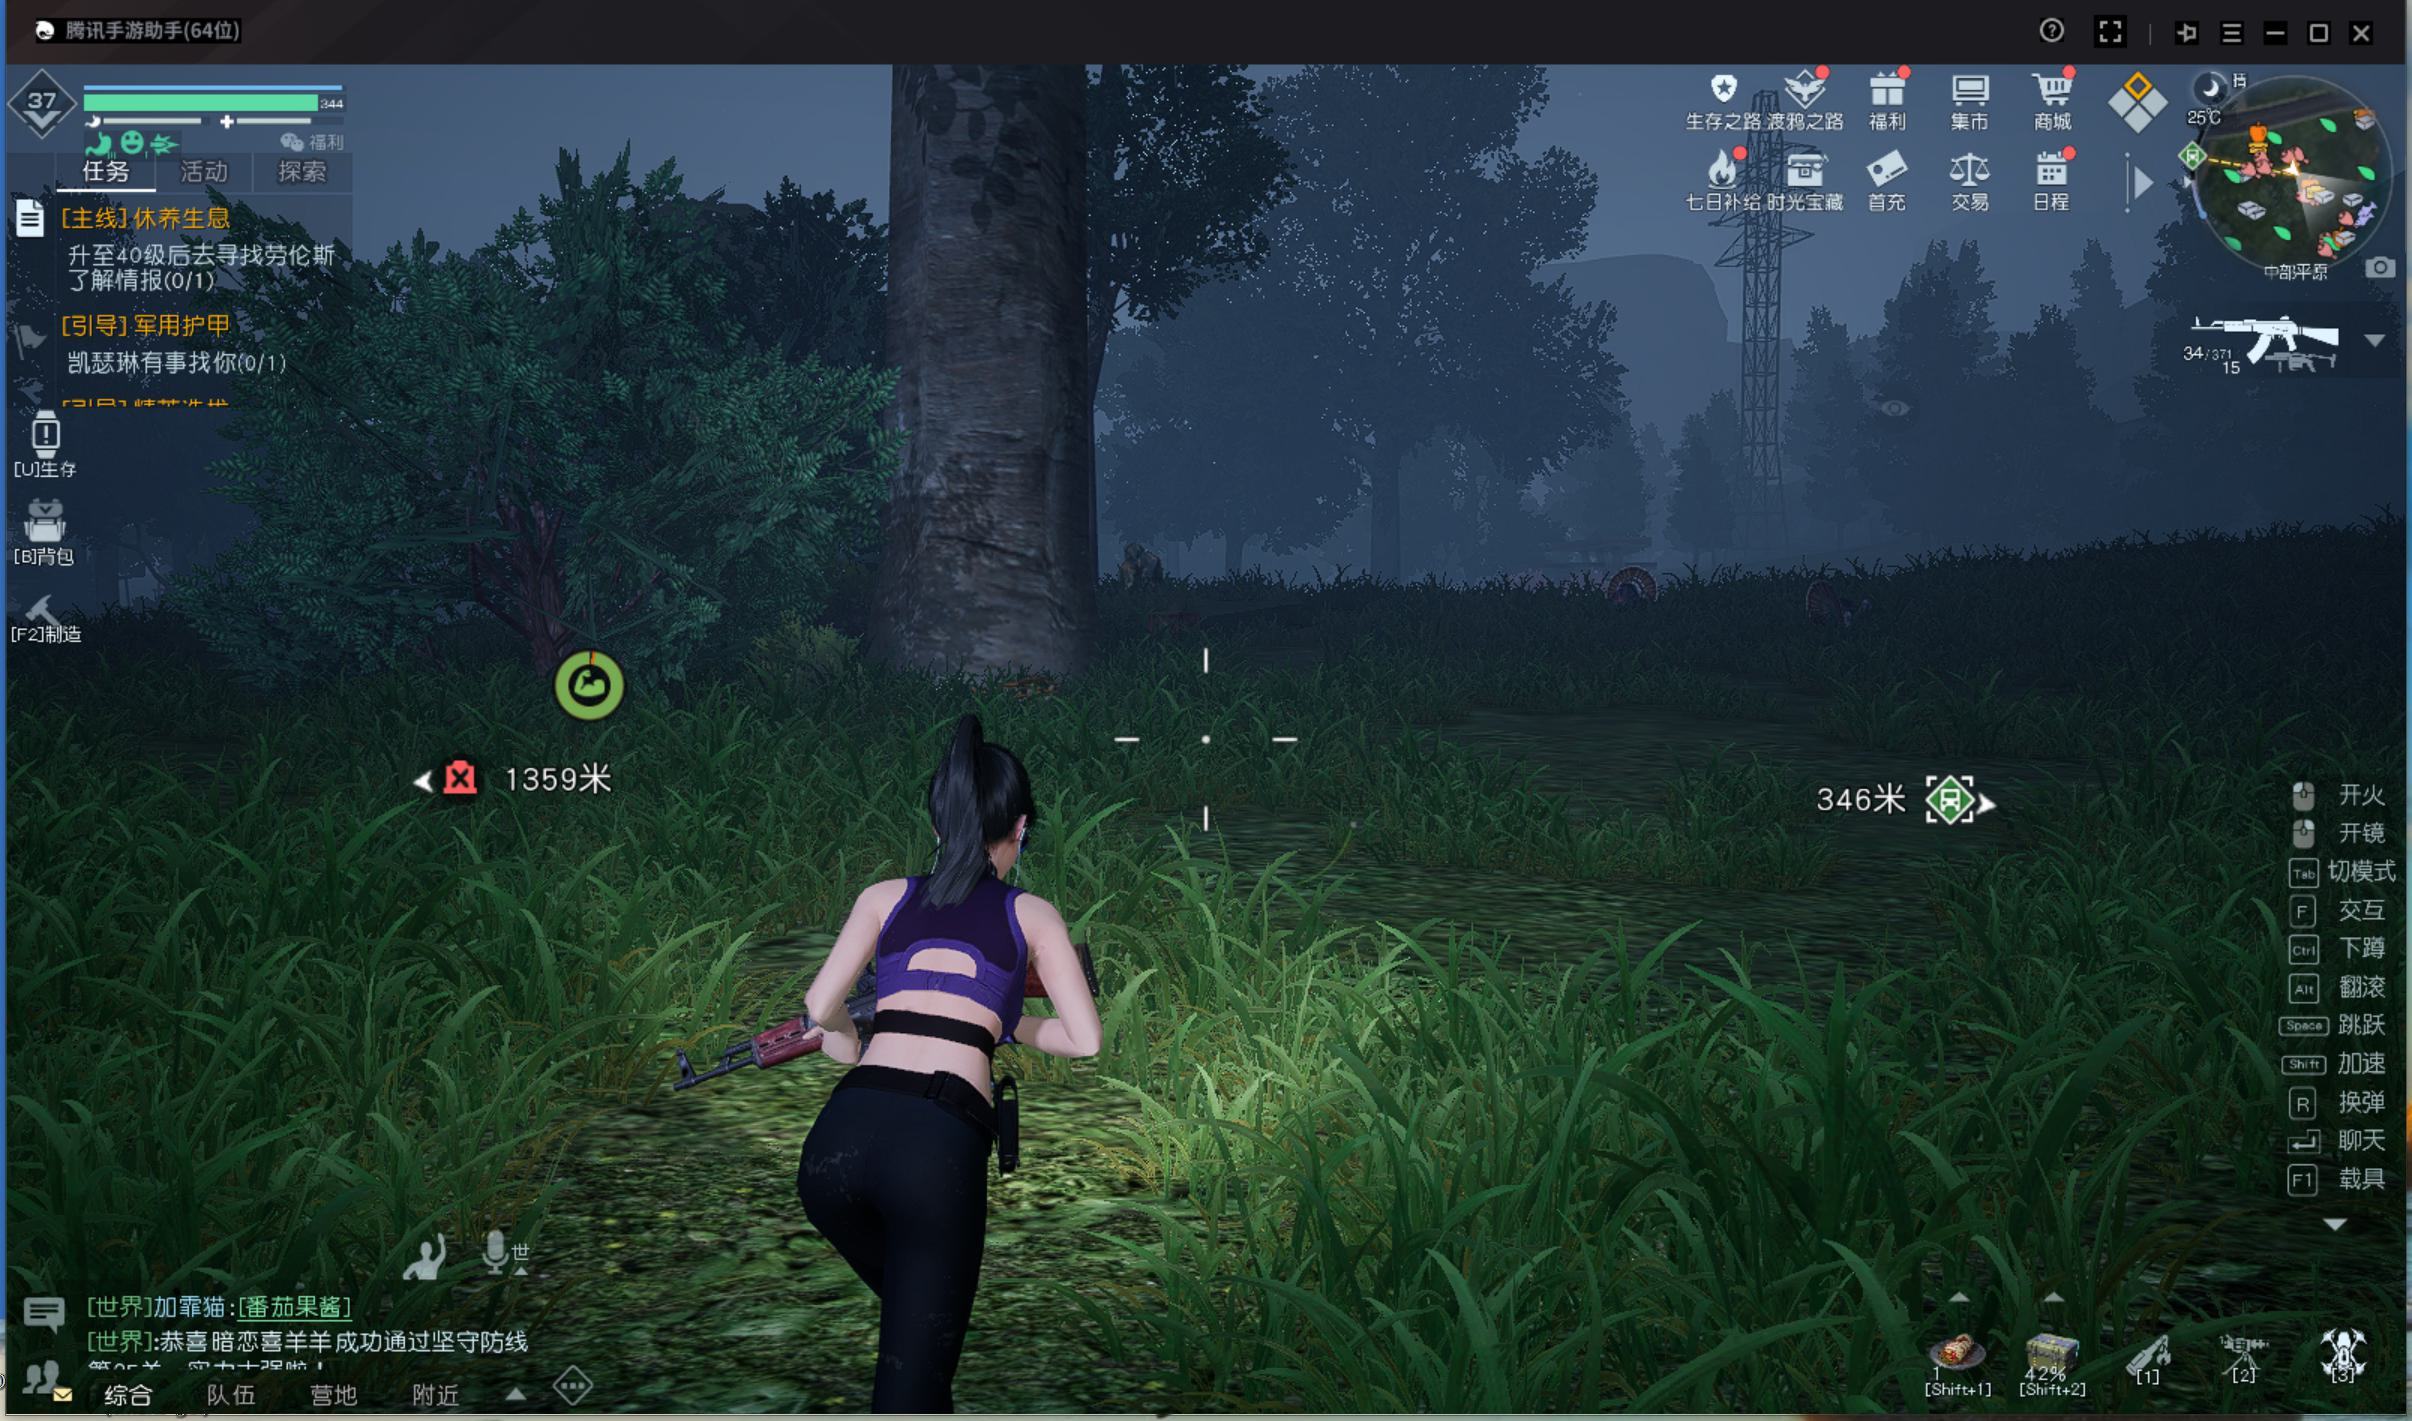tree: (866, 74, 1132, 709), (1351, 457, 1423, 612)
